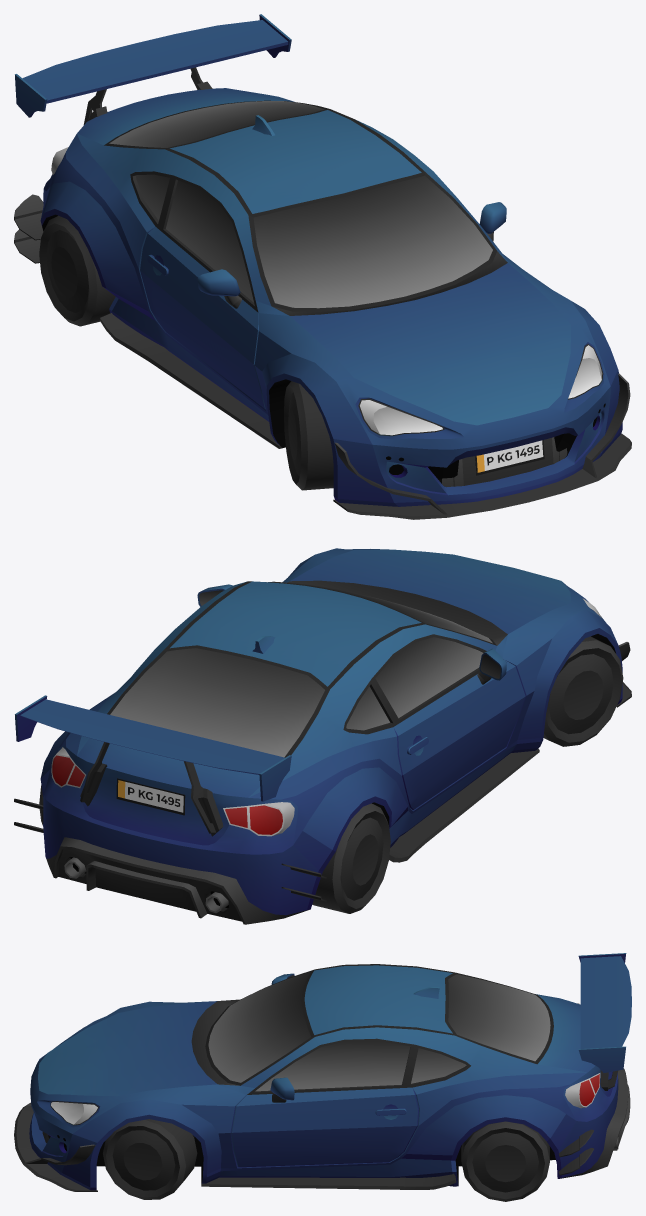
The model's file is Subaru BRZ Rocket Bunny (2013).fbx.
3 views of the same model, one above another, from view 1: azimuth 30°, elevation 25°; view 2: azimuth 150°, elevation 25°; view 3: azimuth 270°, elevation 25° (orthographic). The views are drawn at different scales.
Visible parts, largest first — view 1: Chassis.001, RRW.001, FRW.001, License Plate Front.001; view 2: Chassis.001, FRW.001, RRW.001, License Plate Back.001; view 3: Chassis.001, FLW.001, RLW.001.
Part boxes in pixels (x1,y1,x2,y2): Chassis.001: (14,14,631,519); RRW.001: (39,215,115,326); FRW.001: (284,381,333,490); License Plate Front.001: (475,440,544,475); Chassis.001: (14,548,631,924); FRW.001: (543,636,623,746); RRW.001: (312,803,390,913); License Plate Back.001: (116,778,185,815); Chassis.001: (14,953,631,1191); FLW.001: (103,1119,197,1199); RLW.001: (461,1121,549,1201).
Size of the model in its own units: 2.22 by 1.34 by 4.72.
Materials: 2 (2 with a texture image).
